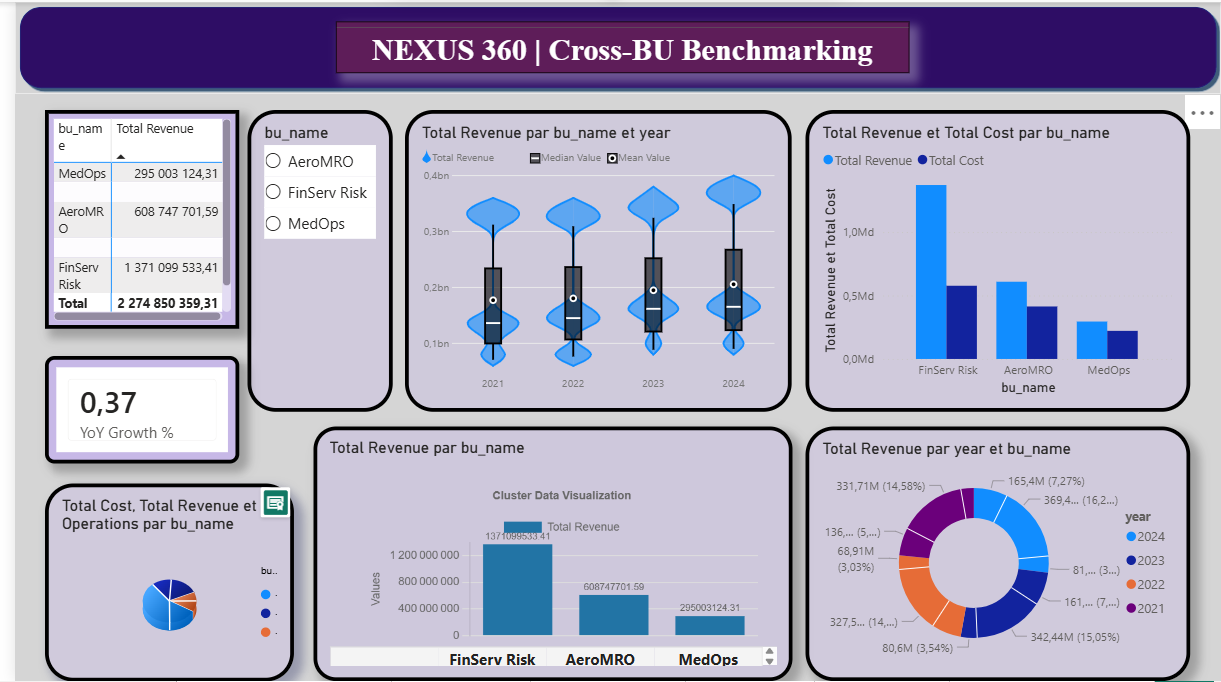

The page's visual inventory and layout, read from the dashboard file:
{"tool":"powerbi","page":{"name":"Cross-BU","canvas":[1280,720],"ordinal":4},"visuals":[{"type":"shape","box":[0,0,1279.3,96.6],"z":0},{"type":"textbox","box":[340.2,21.3,607.8,54.9],"z":1000},{"type":"clusteredColumnChart","fields":{"Category":["Dim_Entity.bu_name"],"Y":["_Mesures.Total Revenue","_Mesures.Total Cost"]},"box":[838,114,408,320],"z":2000},{"type":"pieChartNewAA90D11FDE2D45BBADC4383C1313084F","fields":{"category":["Dim_Entity.bu_name"],"measure":["_Mesures.Total Cost","_Mesures.Total Revenue","_Mesures.Nb Operations"]},"box":[32,510,264,210],"z":3000},{"type":"pivotTable","fields":{"Rows":["Dim_Entity.bu_name"],"Values":["_Mesures.Total Revenue"]},"box":[32,114,206,232],"z":4000},{"type":"violinPlot4D46EB9EB3A141D9BA2289793175D971","fields":{"sampling":["Dim_Entity.bu_name"],"category":["Dim_Date.year"],"measure":["_Mesures.Total Revenue"]},"box":[414,114,410,320],"z":5000},{"type":"listSlicer","fields":{"Values":["Dim_Entity.bu_name"]},"box":[246,114,154,320],"z":6000},{"type":"clusteredChart","fields":{"category":["Dim_Entity.bu_name"],"Y-axis1":["_Mesures.Total Revenue"]},"box":[316,450,508,270],"z":7000},{"type":"donutChart","fields":{"Category":["Dim_Date.year"],"Series":["Dim_Entity.bu_name"],"Y":["_Mesures.Total Revenue"]},"box":[838,450,408,270],"z":8000},{"type":"cardVisual","fields":{"Data":["_Mesures.YoY Growth %"]},"box":[32,376,206,114],"z":9000}]}

Visuals, with their boxes in screenshot pixels (x1, y1, x2, y2), scaled from the page's 1280x720 canvas onto the 1221x682 screenshot:
shape: x1=0, y1=0, x2=1220, y2=92
textbox: x1=325, y1=20, x2=904, y2=72
clusteredColumnChart - Dim_Entity.bu_name x _Mesures.Total Revenue: x1=799, y1=108, x2=1189, y2=411
pieChartNewAA90D11FDE2D45BBADC4383C1313084F - Dim_Entity.bu_name x _Mesures.Total Cost: x1=31, y1=483, x2=282, y2=681
pivotTable - Dim_Entity.bu_name x _Mesures.Total Revenue: x1=31, y1=108, x2=227, y2=328
violinPlot4D46EB9EB3A141D9BA2289793175D971 - Dim_Entity.bu_name x Dim_Date.year: x1=395, y1=108, x2=786, y2=411
listSlicer - Dim_Entity.bu_name: x1=235, y1=108, x2=382, y2=411
clusteredChart - Dim_Entity.bu_name x _Mesures.Total Revenue: x1=301, y1=426, x2=786, y2=681
donutChart - Dim_Date.year x Dim_Entity.bu_name: x1=799, y1=426, x2=1189, y2=681
cardVisual - _Mesures.YoY Growth %: x1=31, y1=356, x2=227, y2=464
